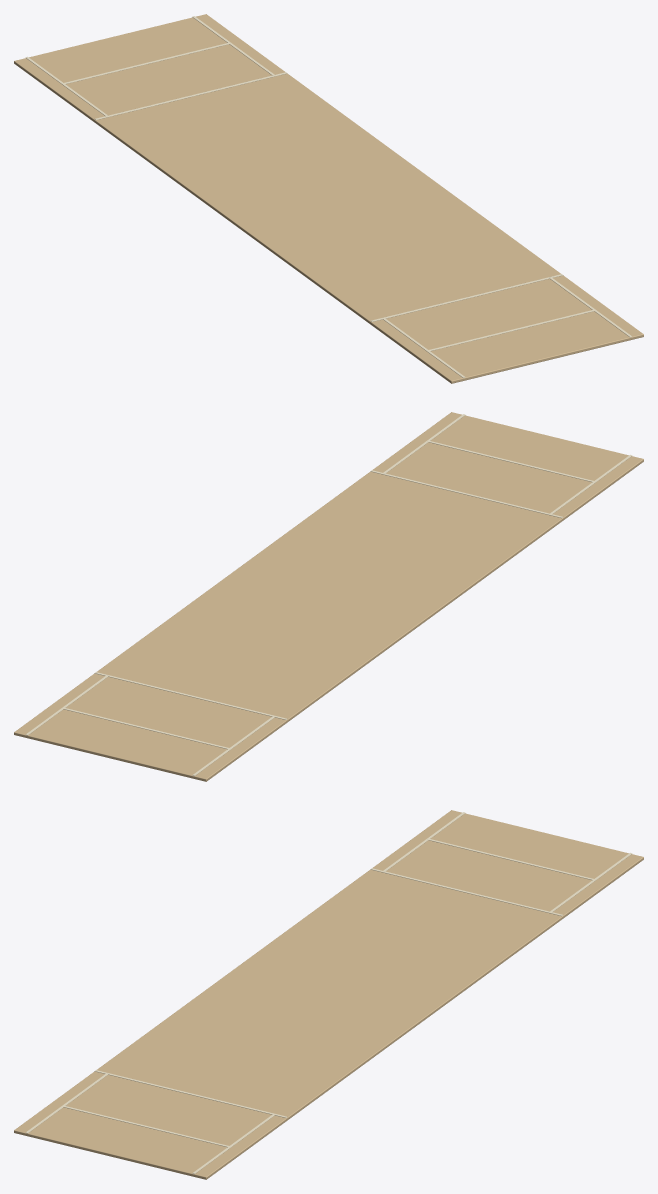
Rendered from cricket-ground-and-pavilion-pitch-strip-14865130__31323.glb.
3 renders of one model, top to bottom at view 1: azimuth 30°, elevation 25°; view 2: azimuth 150°, elevation 25°; view 3: azimuth 330°, elevation 25°, orthographic.
Visible parts, largest first — view 1: pitch-strip; view 2: pitch-strip; view 3: pitch-strip.
Boxes of the visible parts, x1=… form: pitch-strip: x1=14, y1=14, x2=643, y2=383; pitch-strip: x1=14, y1=412, x2=643, y2=781; pitch-strip: x1=14, y1=810, x2=643, y2=1179.
Bounding box in the file's own units: 3.05 × 0.0539 × 12.
